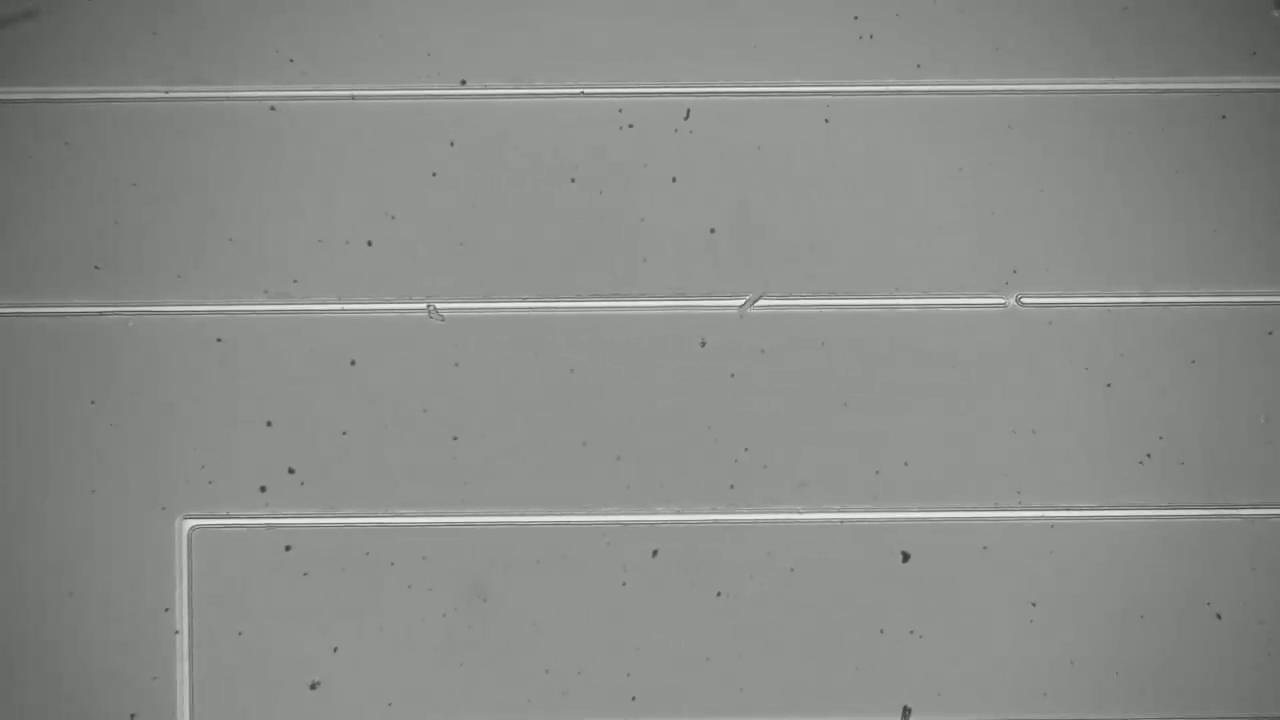open: (728, 278, 775, 324), (996, 281, 1032, 321)
stains_enbedded: (413, 288, 457, 337)
